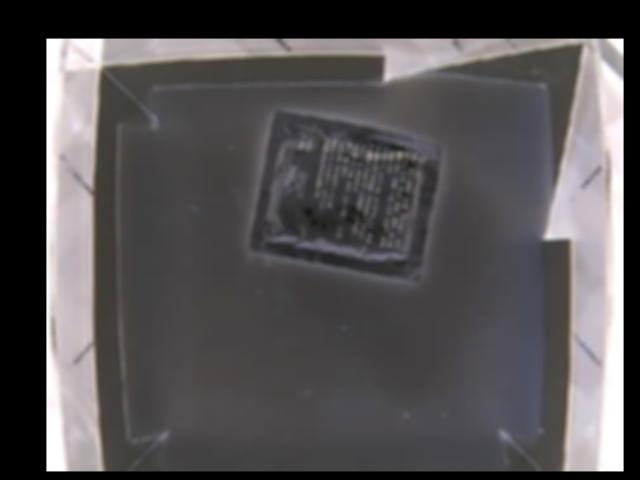Medicine: (249, 109, 443, 279)
